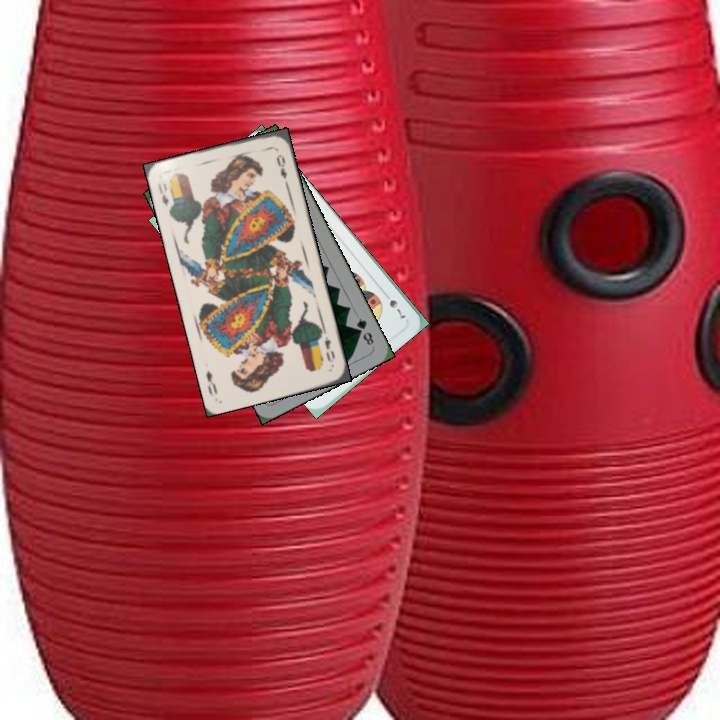EO: (315, 329, 338, 365), (154, 179, 171, 209)
G8: (352, 314, 376, 348)
S7: (379, 288, 408, 321)
